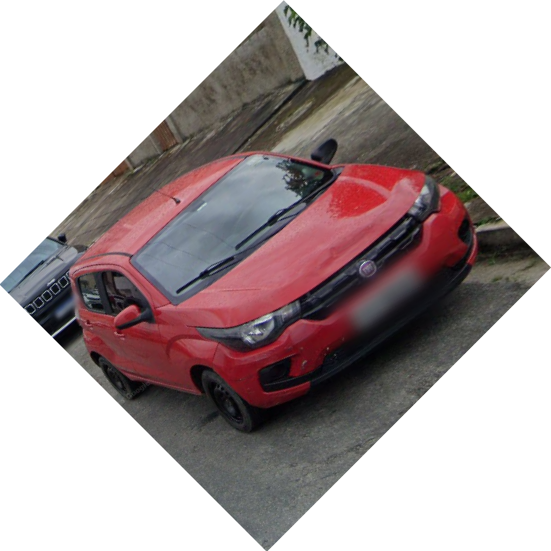car: (67, 147, 478, 436)
